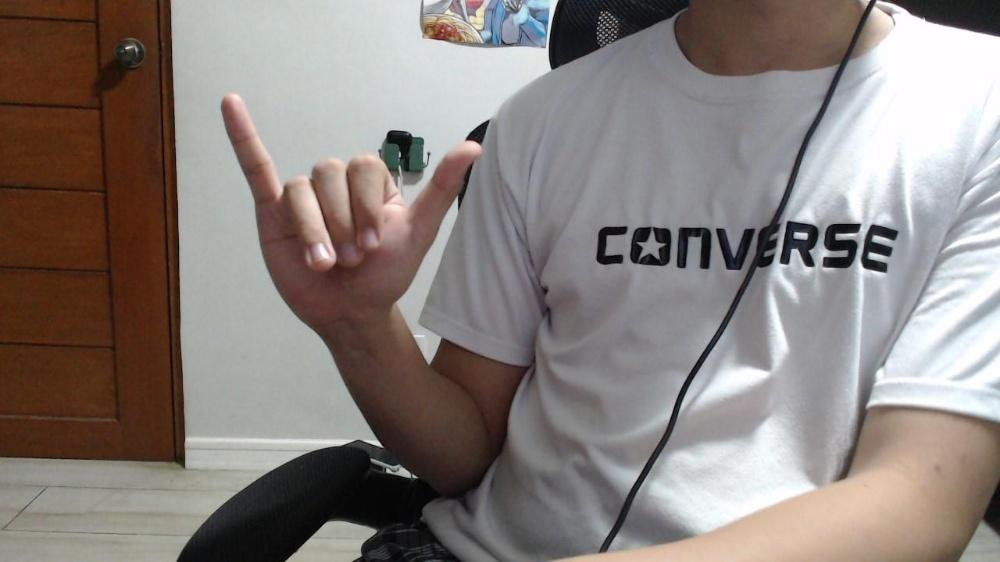y: (218, 92, 481, 317)
